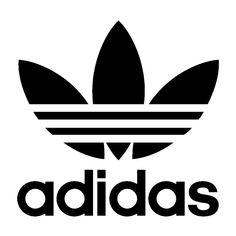adidas Originale: (12, 17, 227, 220)
